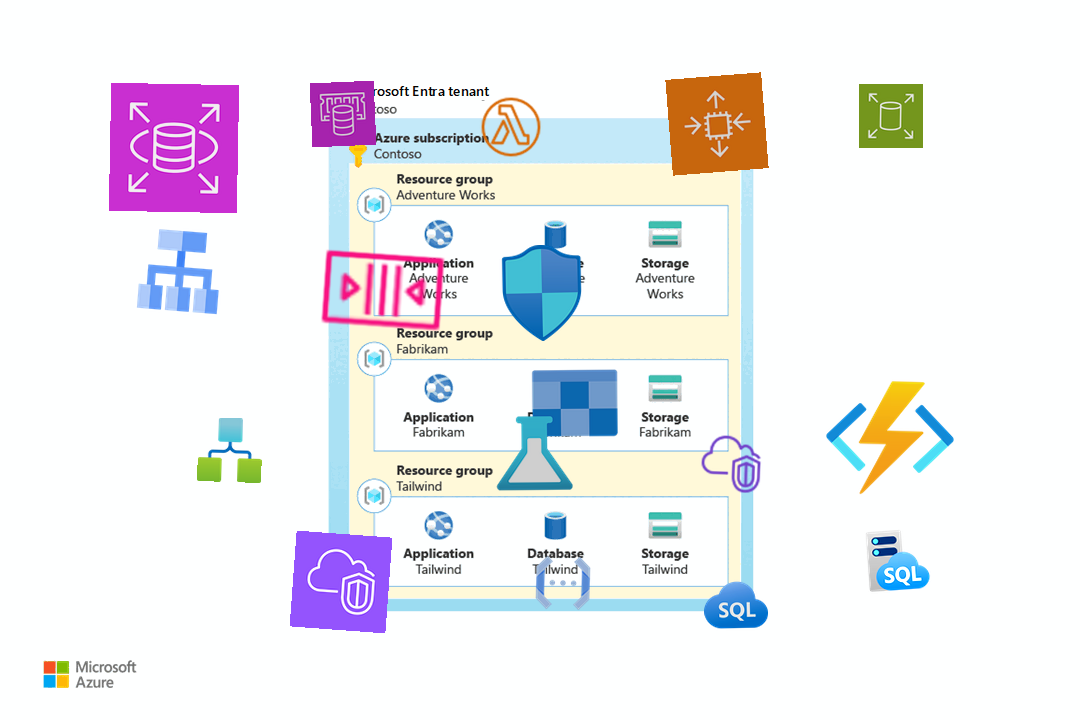aws_amazon_ec2_auto_scaling: (665, 72, 769, 176)
aws_amazon_elastic_block_store: (858, 83, 924, 149)
aws_amazon_elasticache: (309, 80, 377, 148)
aws_amazon_rds: (108, 82, 240, 214)
aws_amazon_virtual_private_cloud: (289, 530, 393, 634)
aws_lambda_lambda_function: (478, 94, 544, 160)
aws_simple_queue_service_queue: (314, 220, 452, 358)
aws_vpc_virtual_private_cloud_vpc: (697, 430, 765, 498)
azure_function_apps: (824, 372, 956, 504)
azure_logic_apps: (197, 417, 263, 483)
azure_machine_learning_studio_workspaces: (492, 365, 622, 495)
azure_network_security_groups: (492, 243, 592, 343)
azure_sql: (703, 573, 769, 639)
azure_sql_managed_instance: (863, 525, 933, 595)
gcp_cloud_functions: (530, 550, 596, 616)
gcp_cloud_load_balancing: (128, 219, 232, 323)
